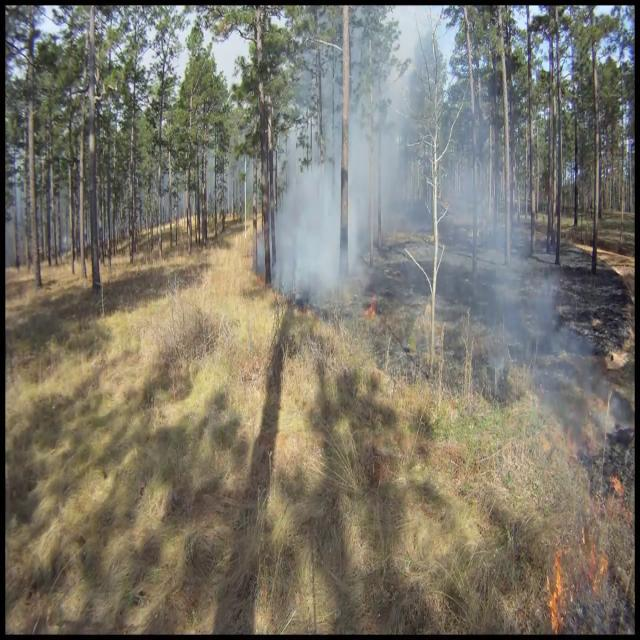Fire: (544, 547, 570, 632)
Smoke: (452, 108, 608, 472), (270, 46, 406, 322)
